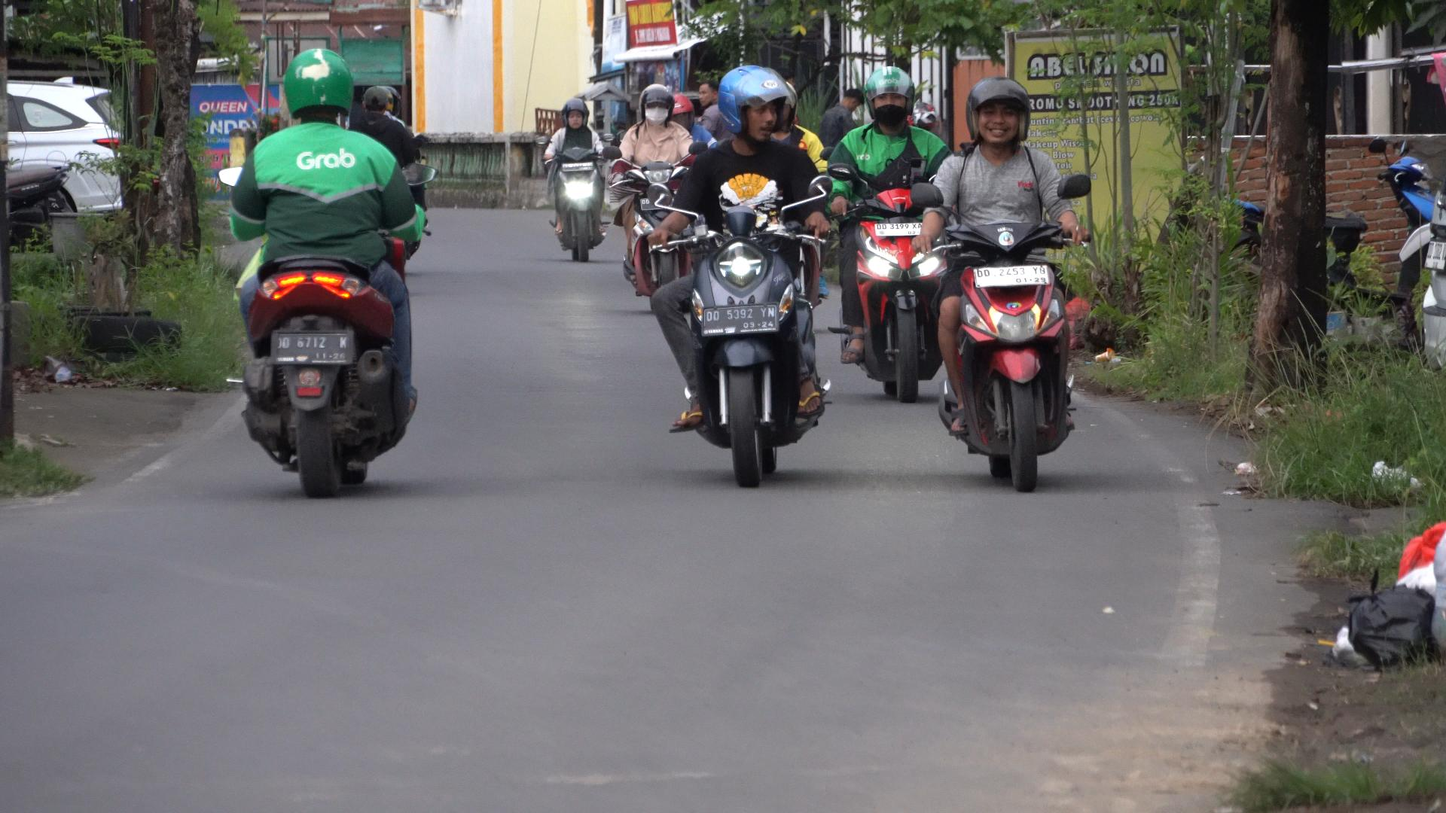number-plate: (975, 261, 1054, 291), (700, 304, 778, 331)
